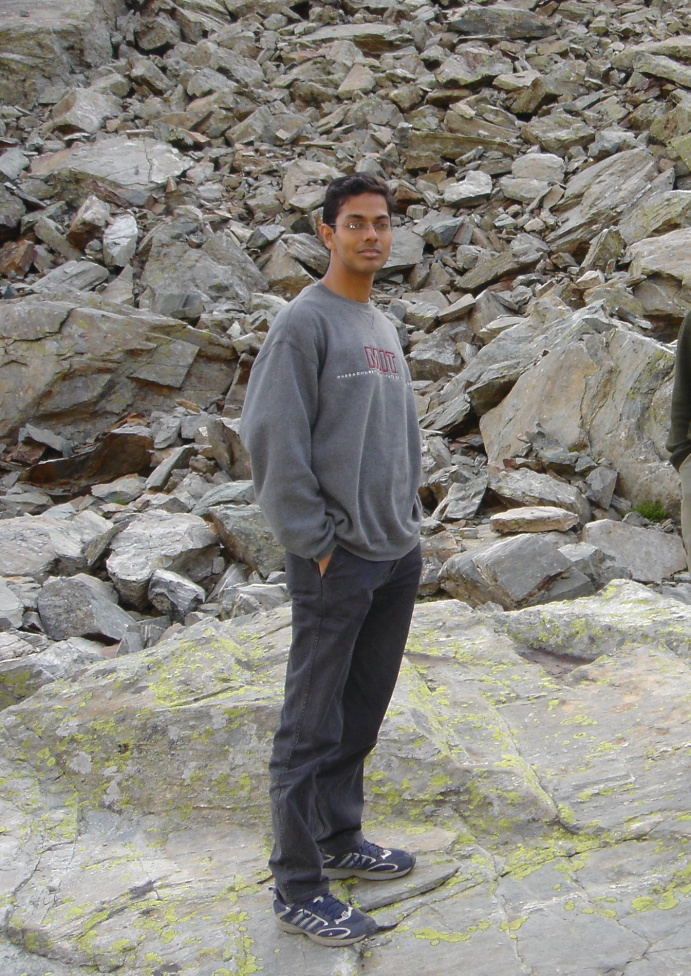person: (247, 169, 418, 947)
